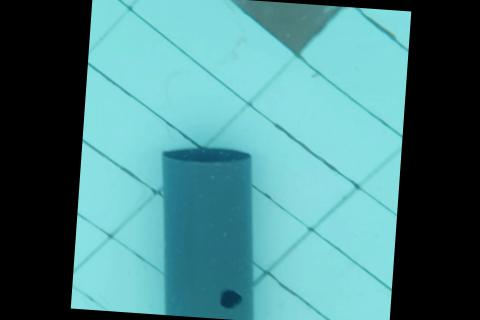kebocoran: (216, 289, 243, 311)
